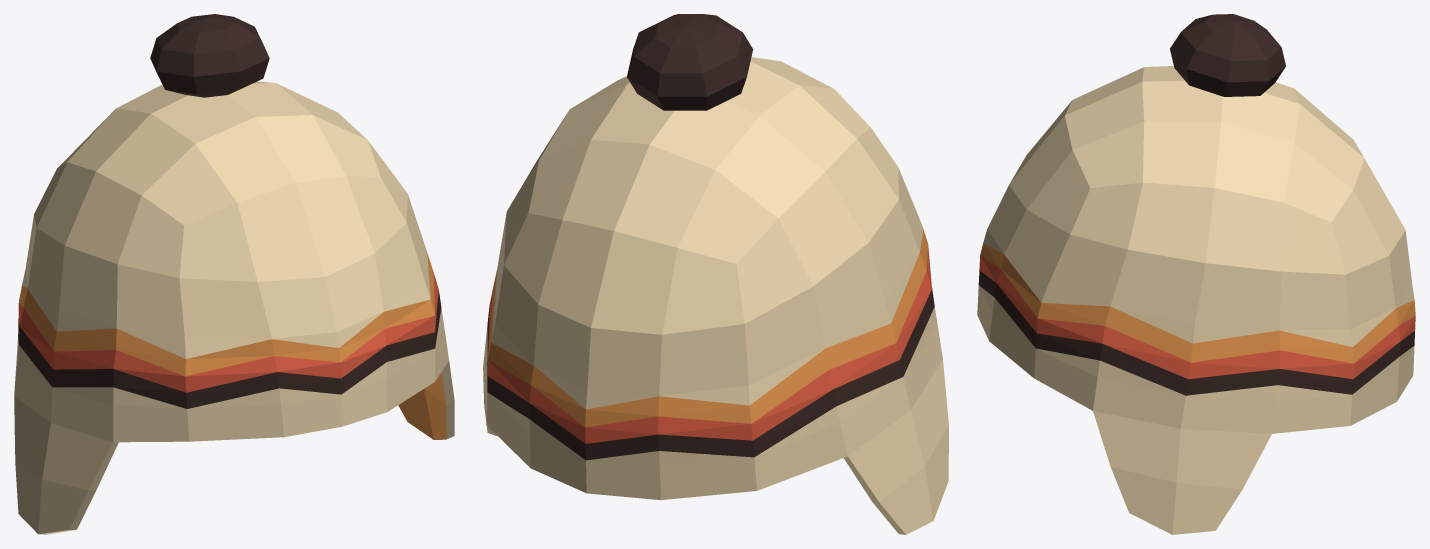
File: ItemChulo01.fbx
The picture shows the model from 3 angles, left to right: view 1: azimuth 30°, elevation 25°; view 2: azimuth 150°, elevation 25°; view 3: azimuth 270°, elevation 25°; orthographic projection. The views are drawn at different scales.
Parts seen in each view (by area): view 1: Chulo; view 2: Chulo; view 3: Chulo.
Boxes of the visible parts, x1=… form: Chulo: x1=14, y1=14, x2=454, y2=534; Chulo: x1=483, y1=14, x2=948, y2=534; Chulo: x1=977, y1=14, x2=1415, y2=534.
Bounding box in the file's own units: 40.04 × 42.4 × 39.9.
